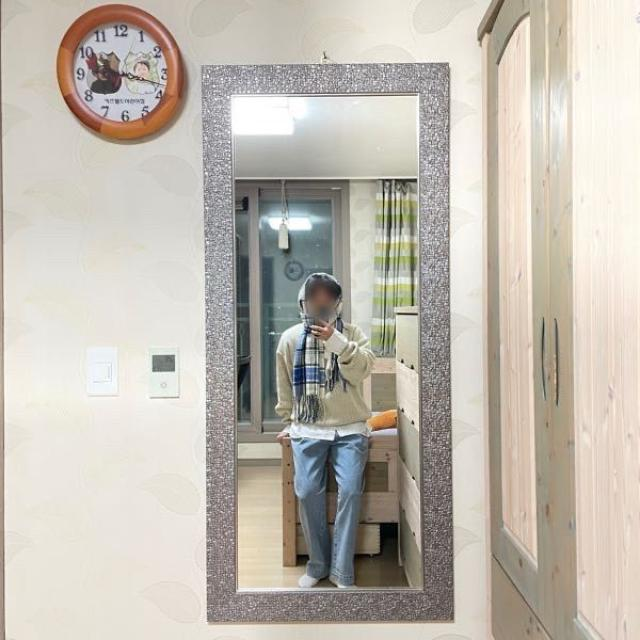denimpants: (289, 428, 367, 579)
mtm: (274, 323, 376, 433)
